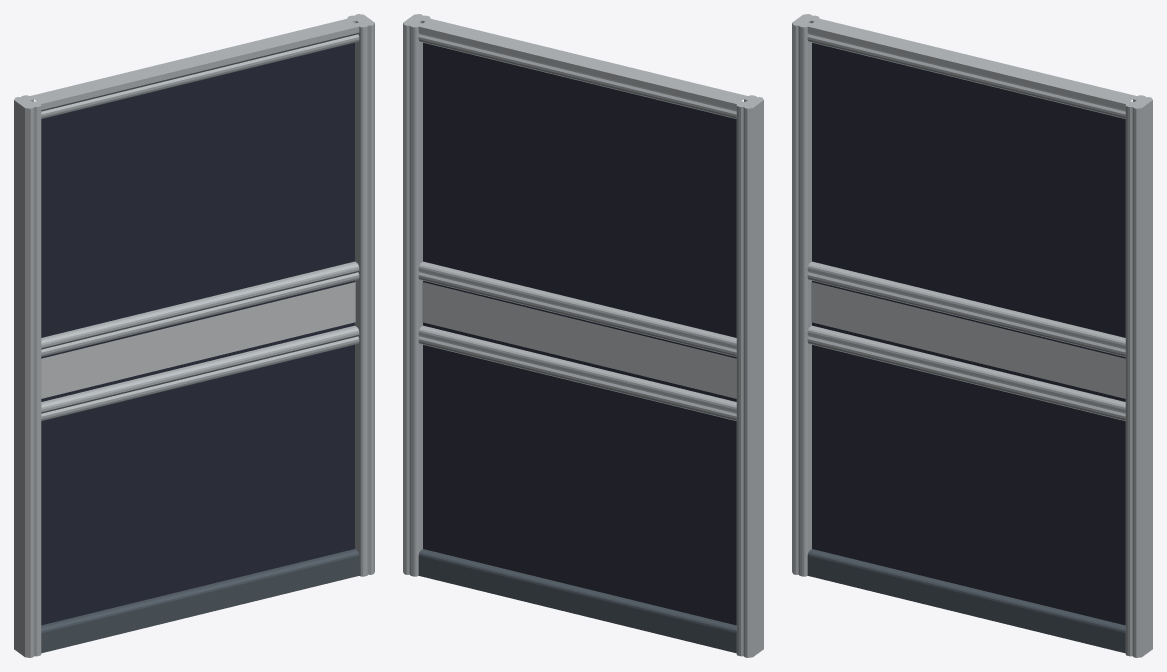
File: glazed-partition-module-91d966.glb
3 views of the same model, side by side, from view 1: azimuth 30°, elevation 25°; view 2: azimuth 150°, elevation 25°; view 3: azimuth 330°, elevation 25° (orthographic).
Visible parts, largest first — view 1: glazed-partition-module; view 2: glazed-partition-module; view 3: glazed-partition-module.
Boxes of the visible parts, x1=… form: glazed-partition-module: x1=14, y1=14, x2=374, y2=657; glazed-partition-module: x1=403, y1=14, x2=763, y2=657; glazed-partition-module: x1=792, y1=14, x2=1152, y2=657.
Bounding box in the file's own units: 2 × 3 × 0.15.
